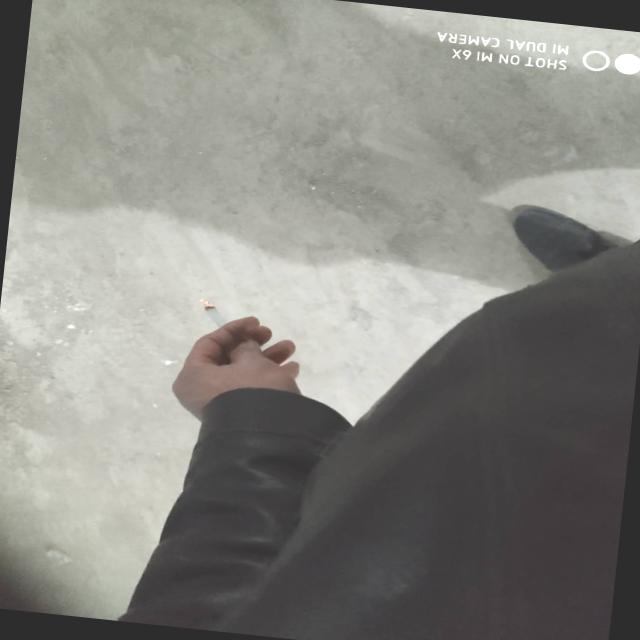cigarette: (188, 294, 255, 348)
